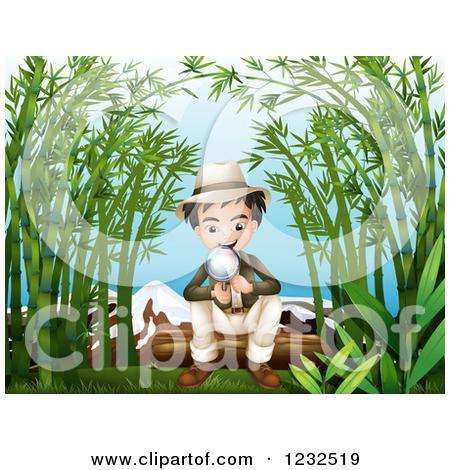person: (172, 161, 287, 391)
